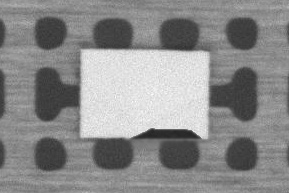DIE_BROKEN: (130, 126, 201, 139)
